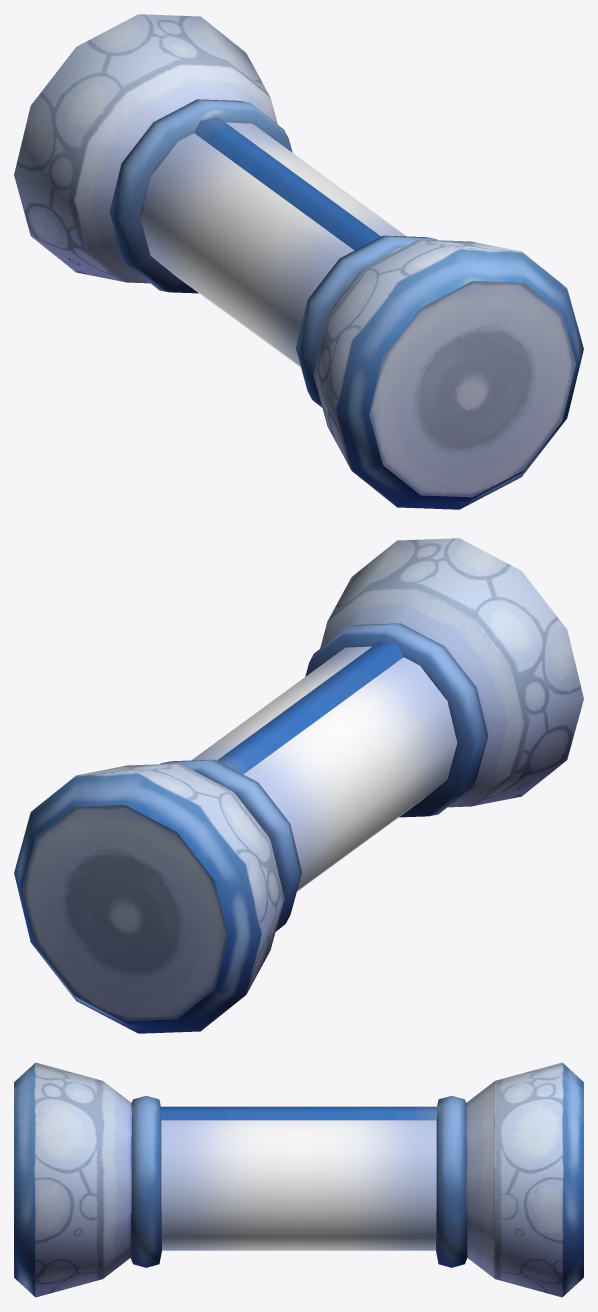
File: capsula.fbx
3 views of the same model, one above another, from view 1: azimuth 30°, elevation 25°; view 2: azimuth 150°, elevation 25°; view 3: azimuth 270°, elevation 25° (orthographic). The views are drawn at different scales.
Visible parts, largest first — view 1: material_mistery; view 2: material_mistery; view 3: material_mistery.
Part boxes in pixels (x1,y1,x2,y2): material_mistery: (14,14,583,509); material_mistery: (14,538,583,1033); material_mistery: (14,1062,583,1297).
Bounding box in the file's own units: 25.94 × 25.94 × 62.65.
1 material, 1 textured.
